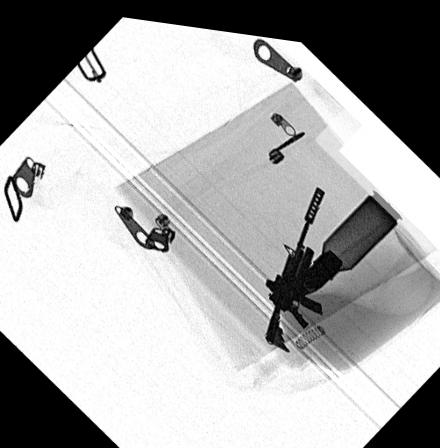Bullet: (285, 177, 402, 291)
Gun: (263, 176, 324, 345)
